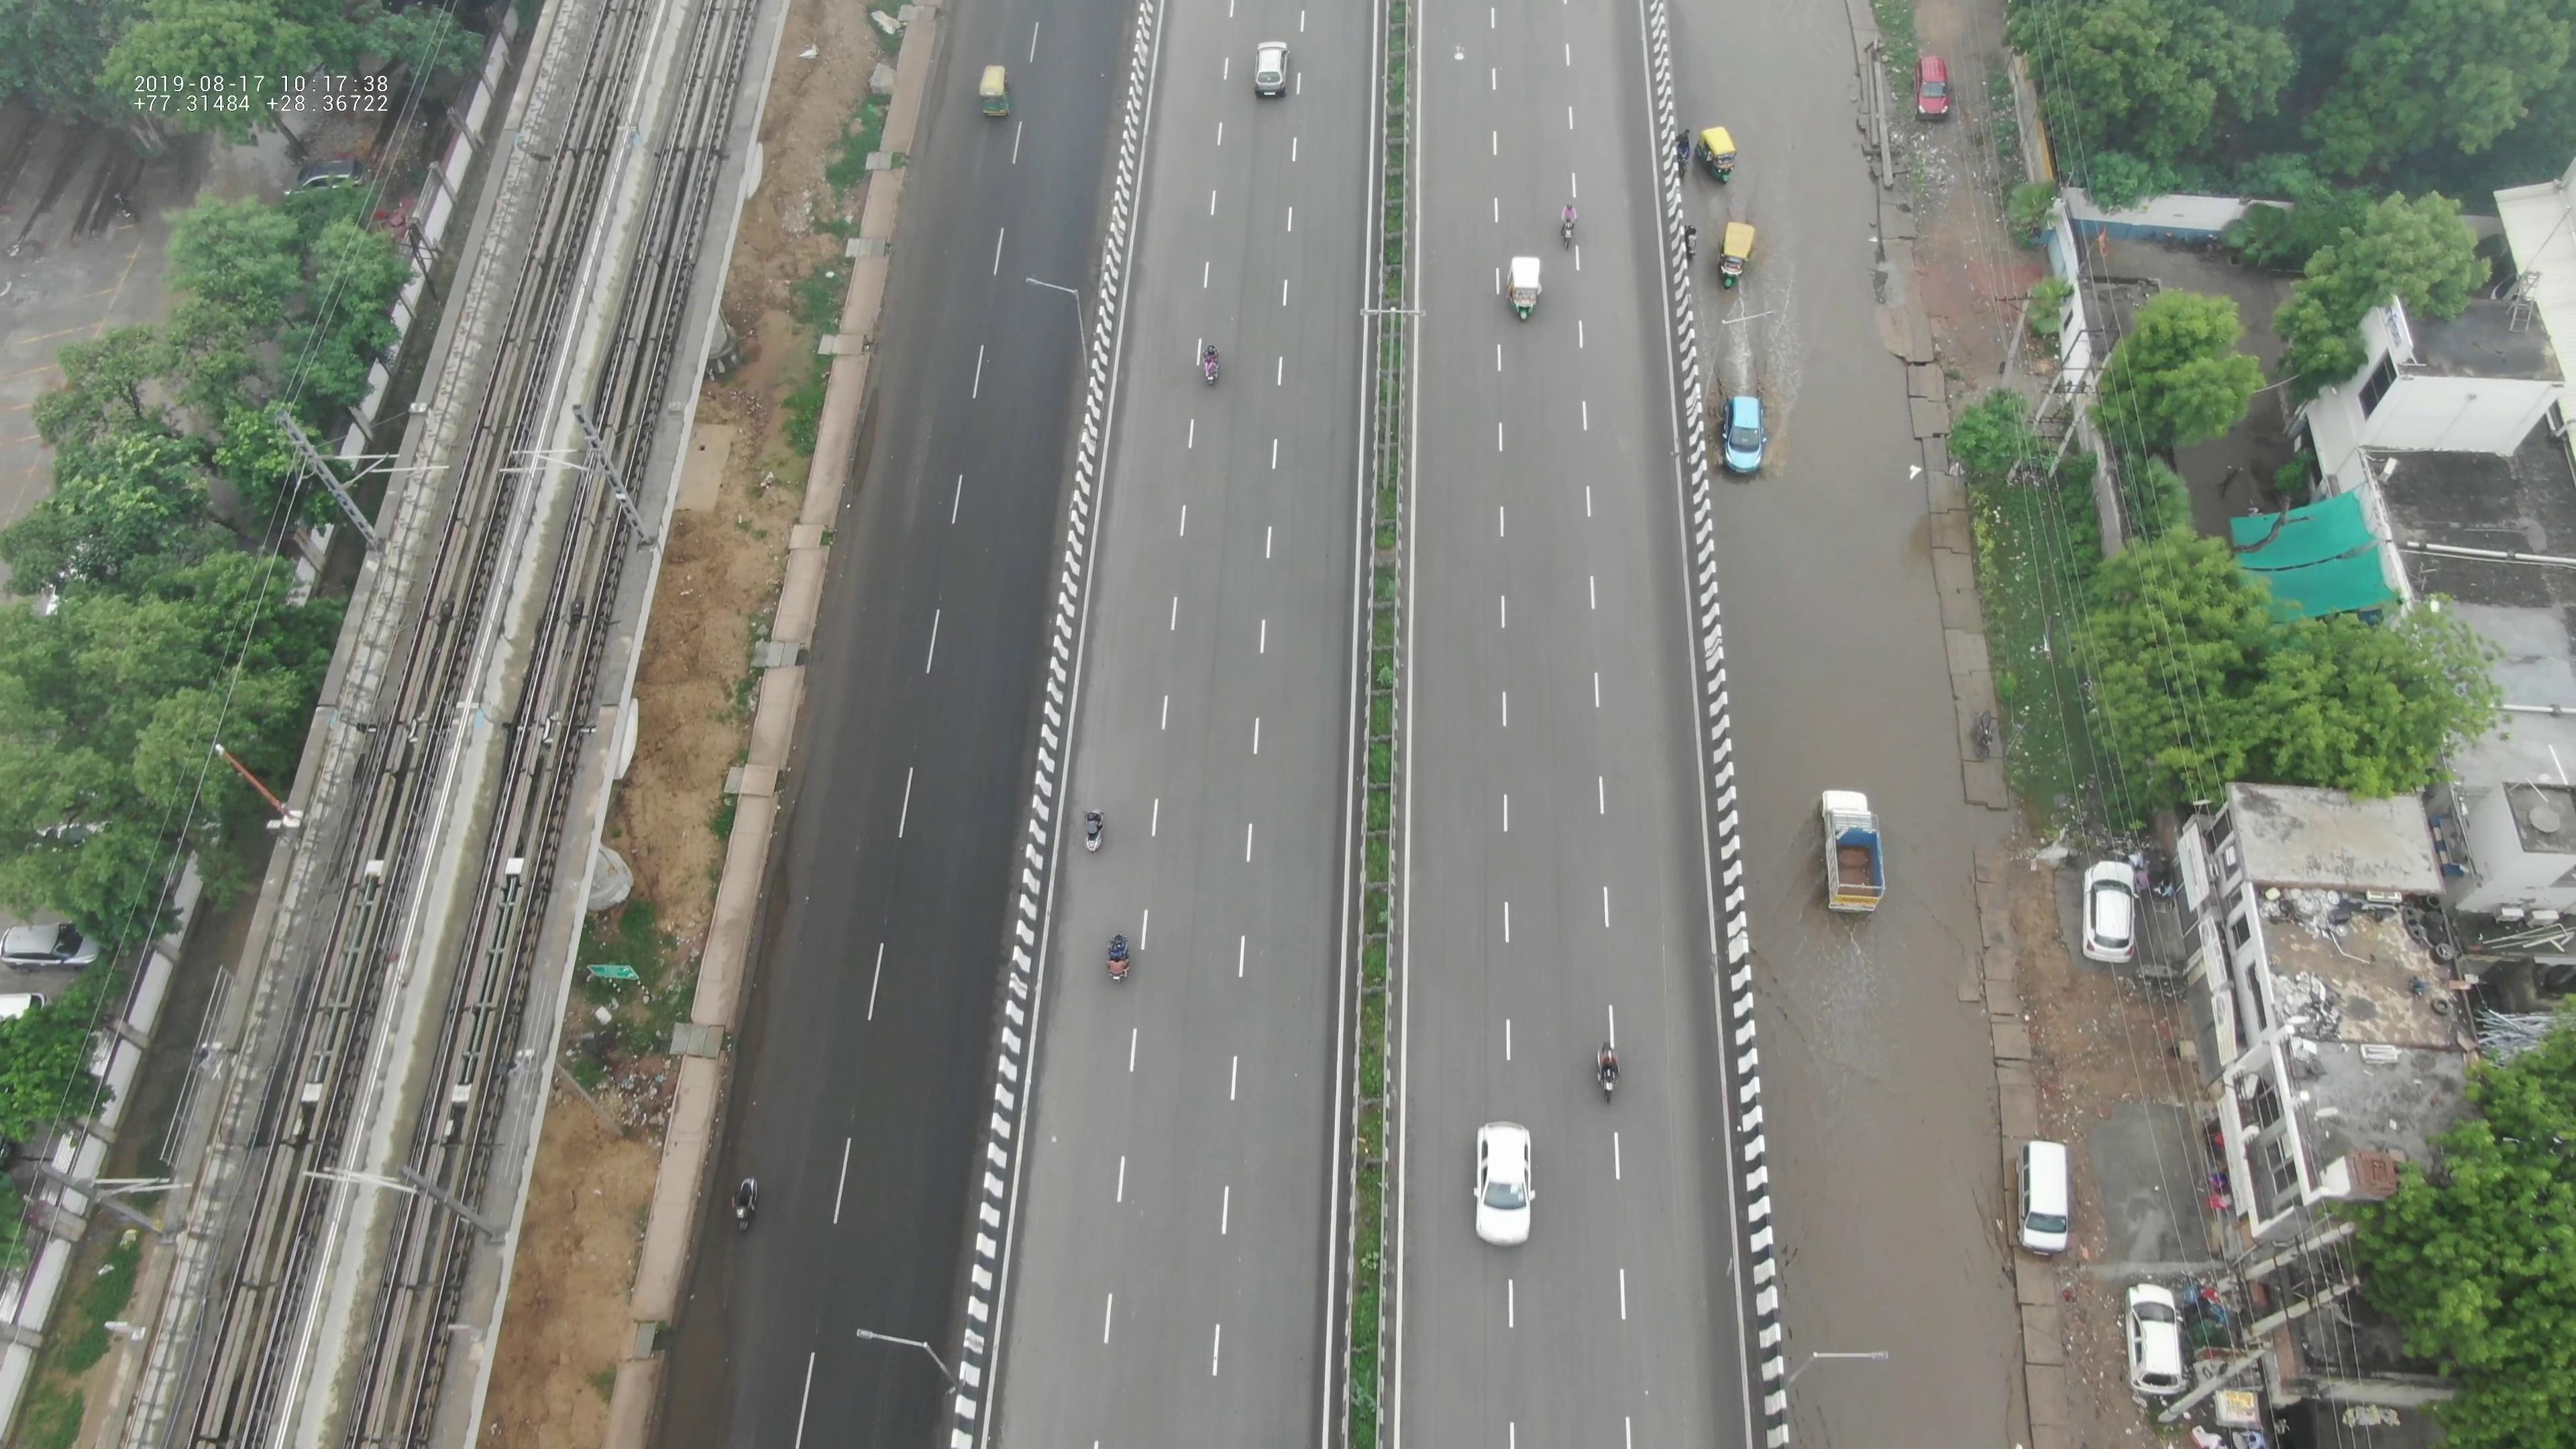Waterlogging: (1709, 333, 1928, 879), (1775, 950, 2013, 1428), (1684, 0, 1879, 299), (713, 807, 816, 1162), (646, 1261, 725, 1438), (839, 377, 892, 518)
